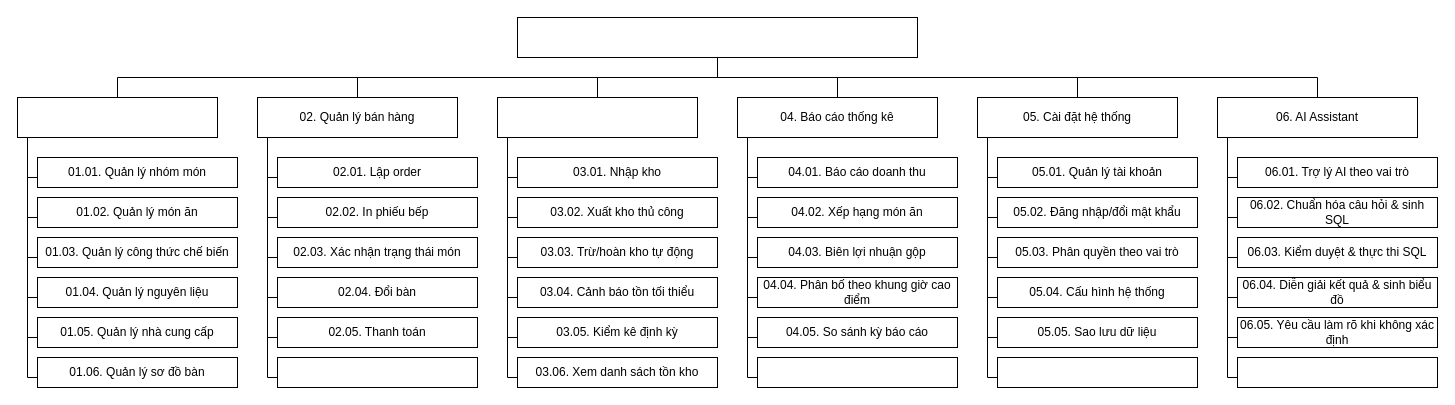
Some shapes in this 1455 by 405 pixel diagram are drawn without their labels. The box of each missing label's shape, as (x1, y1, x2, y2) in pixels:
01. Quản lý danh mục: (16, 96, 218, 138)
02.06. Quản lý hóa đơn: (276, 356, 478, 388)
03. Quản lý kho: (496, 96, 698, 138)
04.06. Báo cáo order bị hủy: (756, 356, 958, 388)
05.06. Nhật ký thao tác rủi ro cao: (996, 356, 1198, 388)
06.06. Xem chi tiết kỹ thuật: (1236, 356, 1438, 388)
Hệ thống quản lý nhà hàng tích hợp AI: (516, 16, 918, 58)
